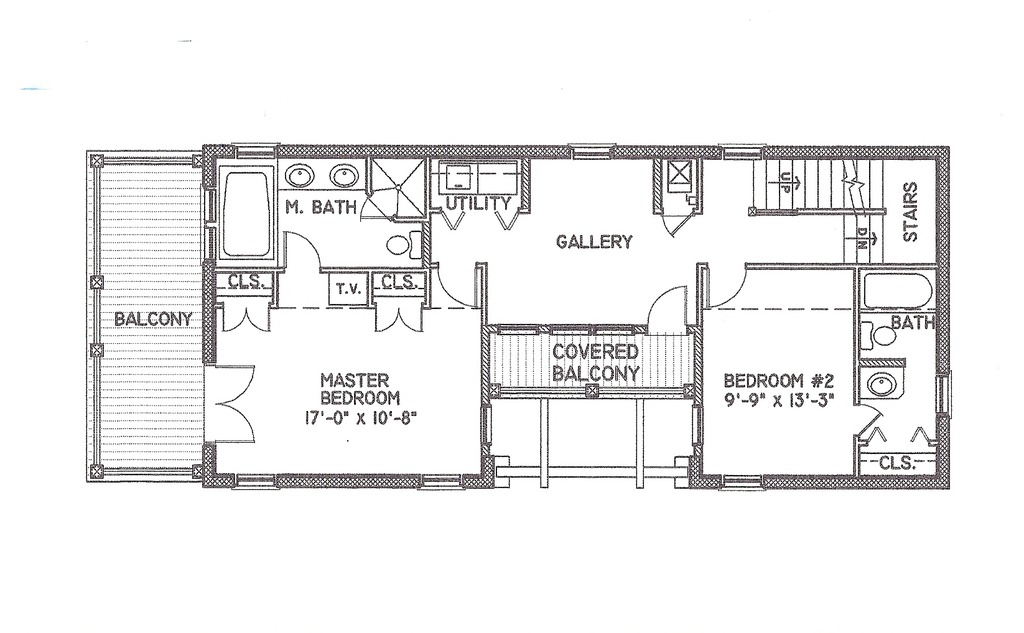door: (213, 363, 260, 444), (219, 299, 274, 333), (707, 261, 747, 307), (646, 285, 688, 327), (373, 304, 427, 335), (280, 229, 318, 271), (660, 207, 694, 239)
large_sink: (382, 227, 426, 263), (861, 321, 901, 353)
small_sink: (275, 159, 369, 193), (859, 367, 906, 400)
stairs: (749, 161, 885, 212)
tub: (219, 163, 277, 260), (854, 269, 935, 308)
windows: (231, 142, 280, 161), (570, 143, 616, 163), (718, 473, 763, 493), (416, 472, 461, 491), (233, 474, 278, 490), (720, 146, 763, 162)
